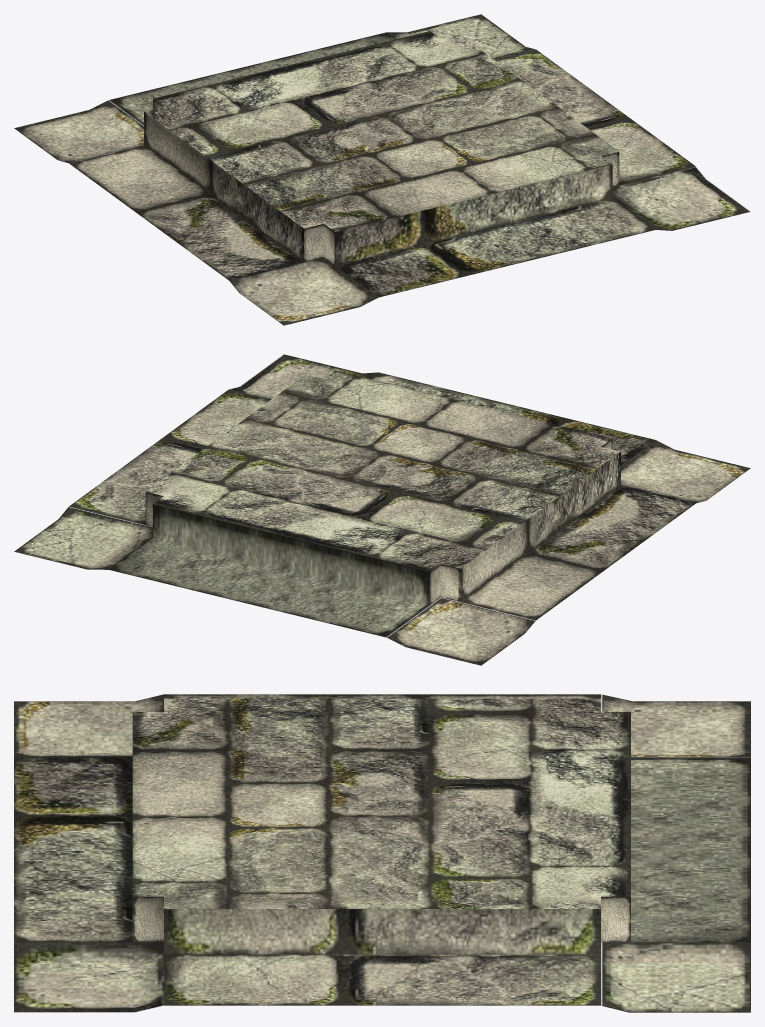
File: ceiling.fbx
The picture shows the model from 3 angles, top to bottom: view 1: azimuth 30°, elevation 25°; view 2: azimuth 150°, elevation 25°; view 3: azimuth 270°, elevation 25°; orthographic projection. The views are drawn at different scales.
Visible parts, largest first — view 1: Ceiling; view 2: Ceiling; view 3: Ceiling.
Boxes of the visible parts, left/top/right/bottom form: Ceiling: left=14, top=14, right=750, bottom=325; Ceiling: left=14, top=354, right=750, bottom=665; Ceiling: left=14, top=694, right=750, bottom=1012.
Bounding box in the file's own units: 1 × 0.0789 × 1.
